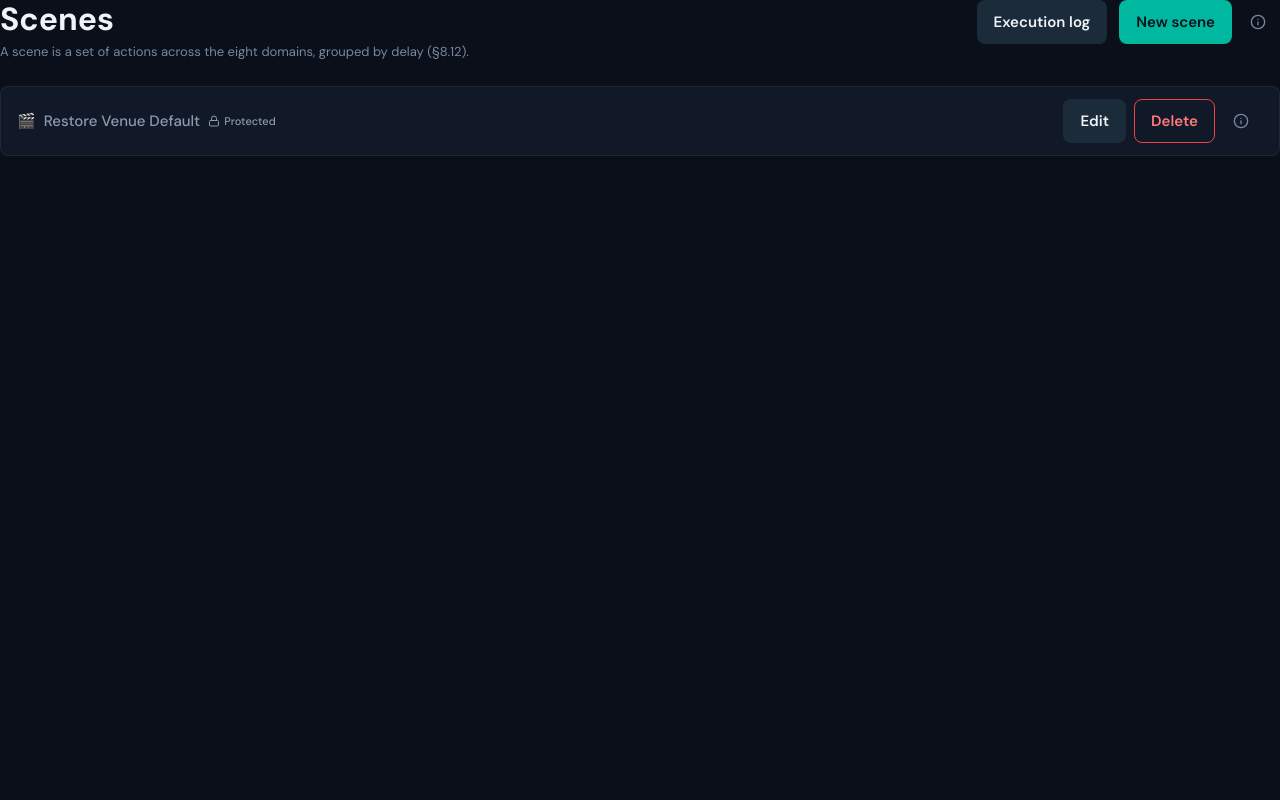
it: ScenesScreen › a protected scene's delete refusal (403, reason=protected) is shown
This screenshot has width=1280, height=800.
Check: the button "🎬 Restore Venue Default Protected" is shown, box [17,108,276,133]
Click the button "Delete". click: (1175, 121)
box: [1134,99,1215,143]
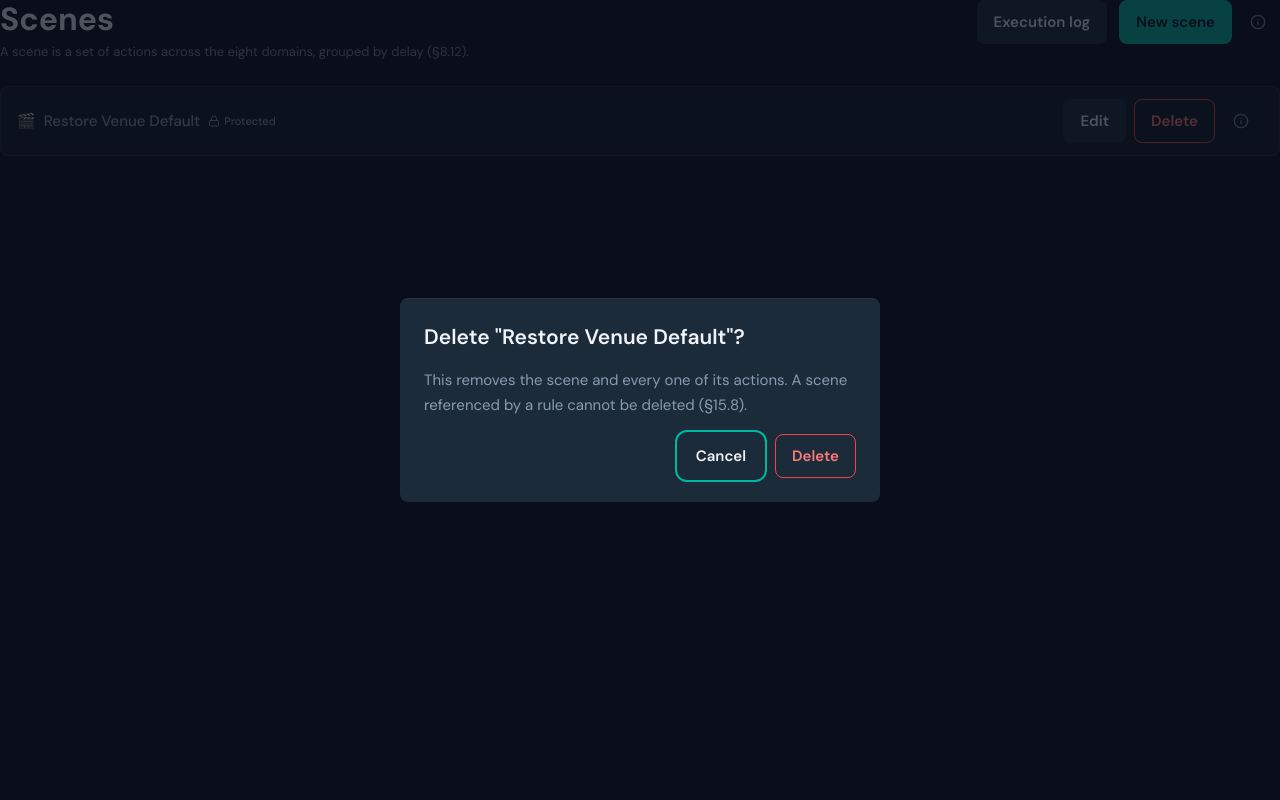
Click the button "Delete". click: (816, 456)
box: [775,434,856,478]
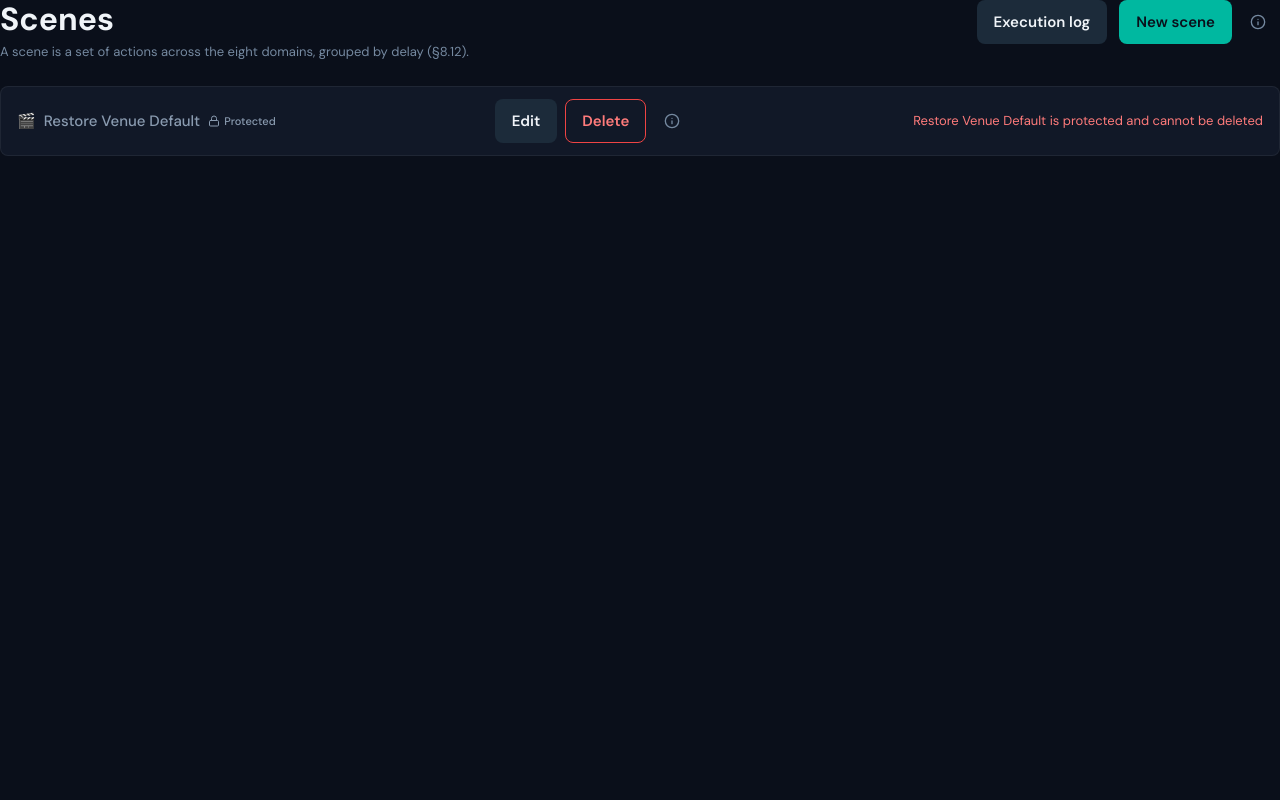
Check: the text "Restore Venue Default is protected and cannot be deleted" is shown, box [913,111,1263,131]
